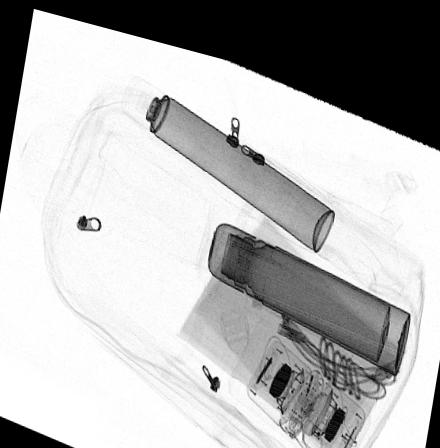Sprayer: (121, 68, 334, 234)
